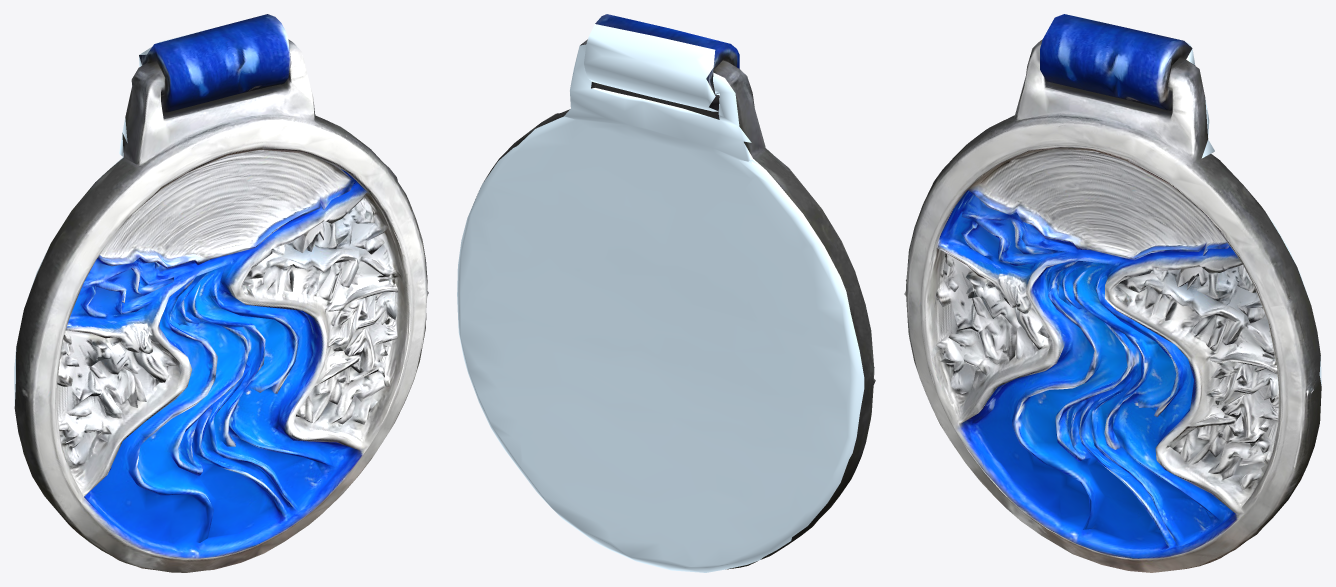
Rendered from stream.glb.
The picture shows the model from 3 angles, left to right: view 1: azimuth 30°, elevation 25°; view 2: azimuth 150°, elevation 25°; view 3: azimuth 330°, elevation 25°; orthographic projection.
Visible parts, largest first — view 1: tripo_node_04cbd4e8-20be-445e-81b5-6fee6594e0b7; view 2: tripo_node_04cbd4e8-20be-445e-81b5-6fee6594e0b7; view 3: tripo_node_04cbd4e8-20be-445e-81b5-6fee6594e0b7.
Boxes of the visible parts, x1,y1,x2,y2 form: tripo_node_04cbd4e8-20be-445e-81b5-6fee6594e0b7: [14, 14, 428, 572]; tripo_node_04cbd4e8-20be-445e-81b5-6fee6594e0b7: [457, 14, 875, 572]; tripo_node_04cbd4e8-20be-445e-81b5-6fee6594e0b7: [904, 14, 1321, 572].
Size of the model in its own units: 1.6 by 2 by 0.2465.
Materials: 2 (1 with a texture image).
